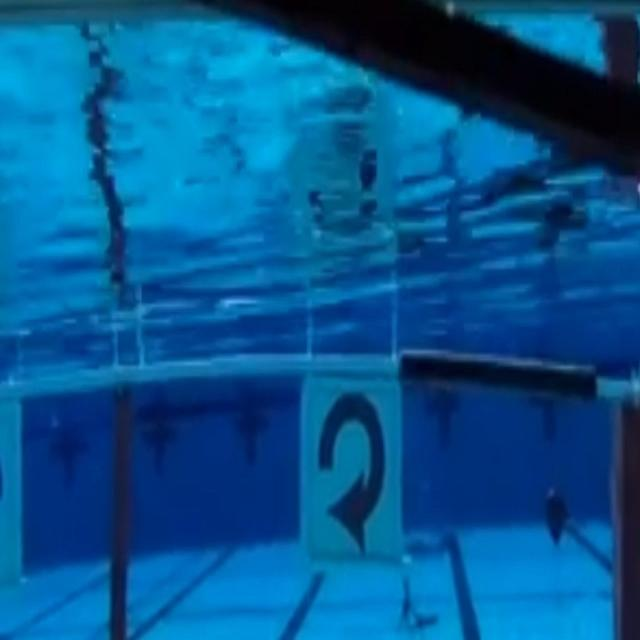Gate: (108, 345, 640, 640)
